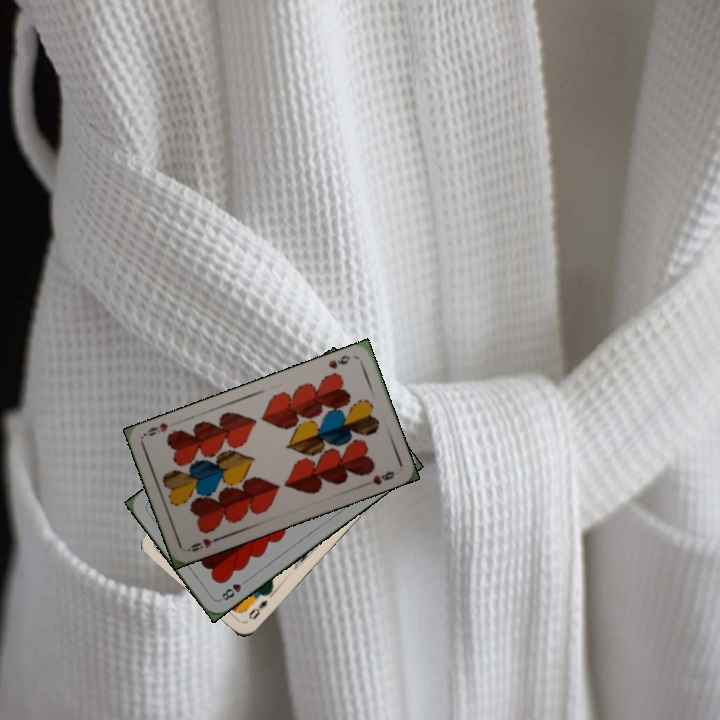EO: (244, 596, 270, 623)
H8: (216, 575, 251, 603)
H9: (184, 533, 223, 554), (324, 351, 352, 372)
